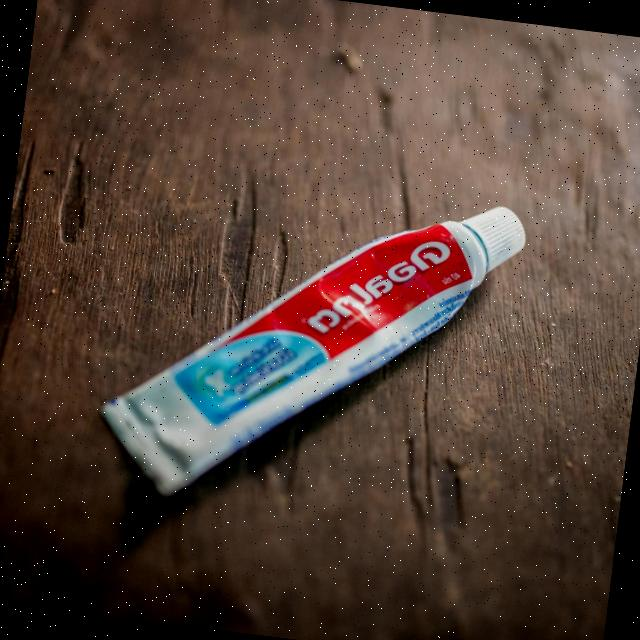Toothpaste: (82, 155, 533, 542)
